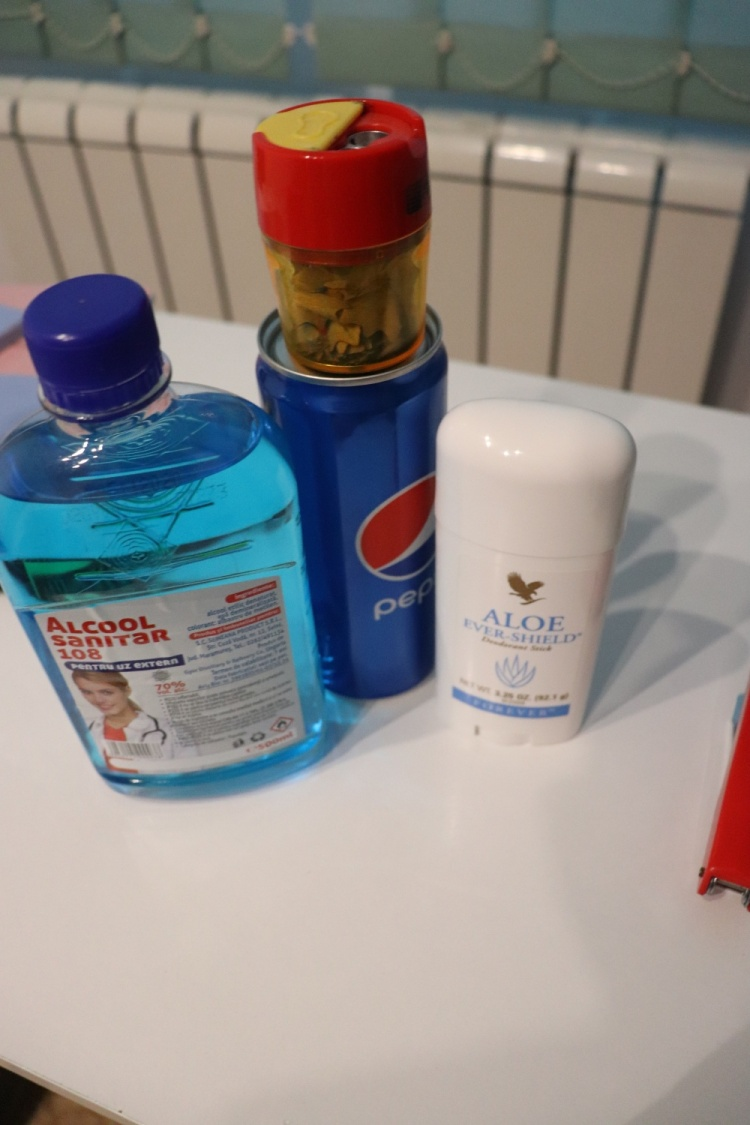pepsi: (253, 360, 433, 704)
